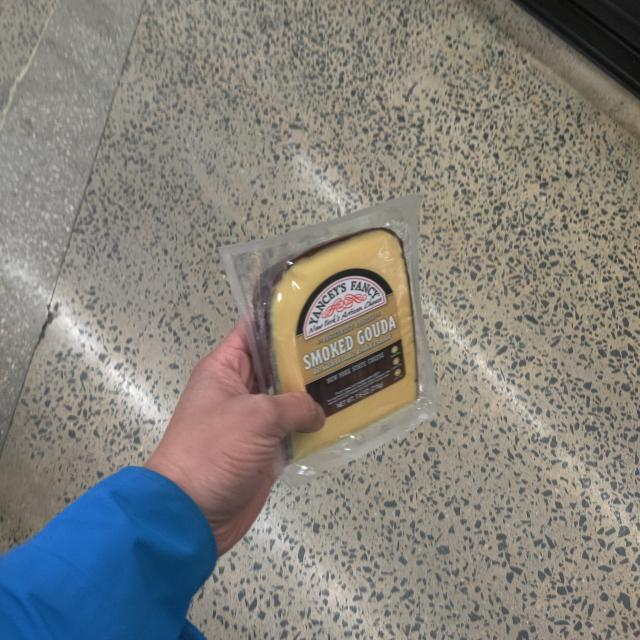Cheese: (242, 213, 448, 466)
